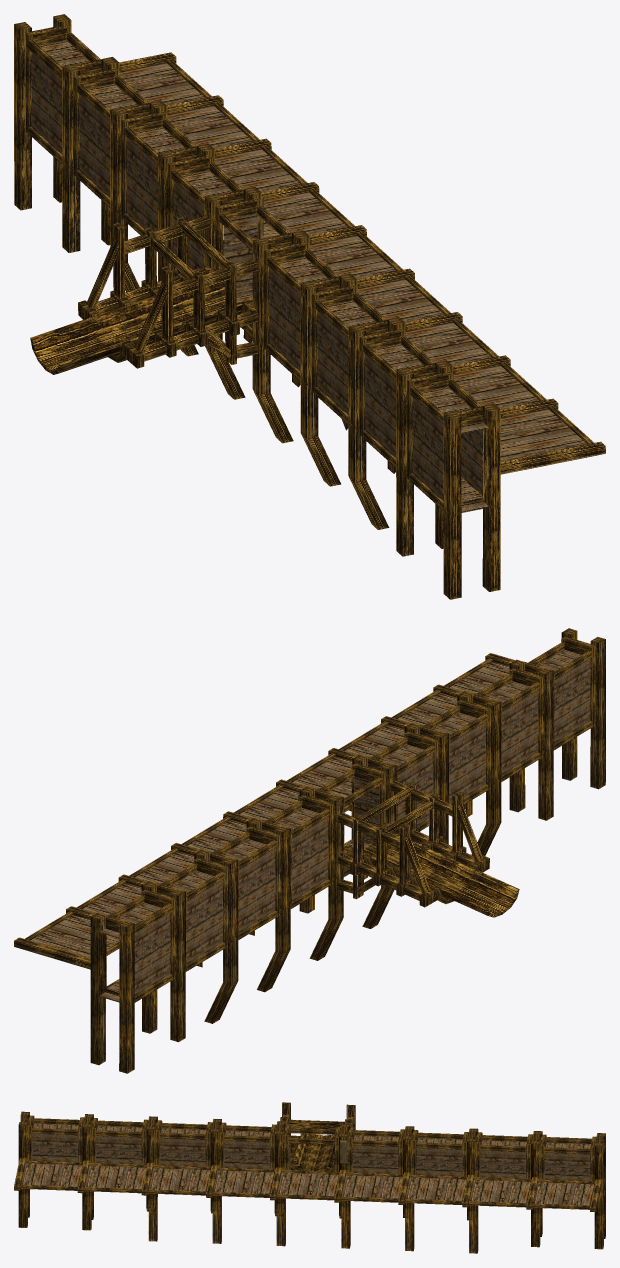
Rendered from RM_PLAYSURFACE_FINAL_RM_LARGE_SLUCE.fbx.
The picture shows the model from 3 angles, top to bottom: view 1: azimuth 30°, elevation 25°; view 2: azimuth 150°, elevation 25°; view 3: azimuth 270°, elevation 25°; orthographic projection. The views are drawn at different scales.
Visible parts, largest first — view 1: RM_PLAYSURFACE_FINAL_RM_LARGE_SLUCE; view 2: RM_PLAYSURFACE_FINAL_RM_LARGE_SLUCE; view 3: RM_PLAYSURFACE_FINAL_RM_LARGE_SLUCE.
Boxes of the visible parts, x1,y1,x2,y2 form: RM_PLAYSURFACE_FINAL_RM_LARGE_SLUCE: (14,14,605,599); RM_PLAYSURFACE_FINAL_RM_LARGE_SLUCE: (14,628,605,1073); RM_PLAYSURFACE_FINAL_RM_LARGE_SLUCE: (14,1102,605,1253).
Bounding box in the file's own units: 88900 × 46828 × 217838.
3 materials, 3 textured.
